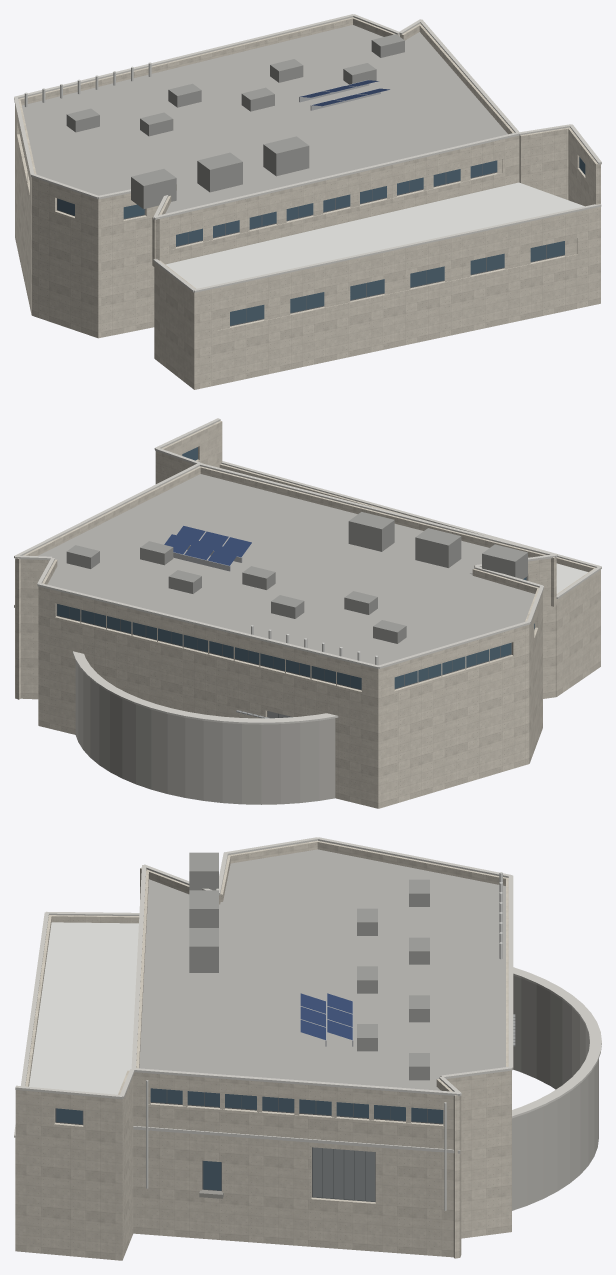
3 views of the same model, one above another, from view 1: azimuth 30°, elevation 25°; view 2: azimuth 150°, elevation 25°; view 3: azimuth 270°, elevation 25° (orthographic). The views are drawn at different scales.
Visible parts, largest first — view 1: s22__gray-concrete-wall, s22__roof, s22__white-roof, s22__ac, s22__trim, s22__glass, s22__frame, s22__solar-panel, s22__solar-frame; view 2: s22__gray-concrete-wall, s22__roof, s22__retaining-joint-wall, s22__trim, s22__ac, s22__glass, s22__solar-panel, s22__frame, s22__white-roof; view 3: s22__gray-concrete-wall, s22__roof, s22__white-roof, s22__retaining-joint-wall, s22__trim, s22__ac, s22__glass, s22__shutter-metal, s22__solar-panel, s22__frame, s22__column.
Part boxes in pixels (left/top/right/bottom): s22__gray-concrete-wall: left=15, top=17, right=600, bottom=389; s22__roof: left=22, top=25, right=507, bottom=213; s22__white-roof: left=165, top=182, right=584, bottom=288; s22__ac: left=66, top=34, right=404, bottom=208; s22__trim: left=14, top=14, right=601, bottom=292; s22__glass: left=57, top=157, right=585, bottom=325; s22__frame: left=21, top=140, right=564, bottom=326; s22__solar-panel: left=300, top=80, right=389, bottom=106; s22__solar-frame: left=299, top=80, right=380, bottom=110; s22__gray-concrete-wall: left=15, top=420, right=600, bottom=808; s22__roof: left=38, top=474, right=534, bottom=665; s22__retaining-joint-wall: left=75, top=661, right=335, bottom=804; s22__trim: left=14, top=418, right=601, bottom=724; s22__ac: left=66, top=512, right=527, bottom=643; s22__glass: left=57, top=447, right=534, bottom=689; s22__solar-panel: left=164, top=526, right=251, bottom=565; s22__frame: left=56, top=576, right=534, bottom=717; s22__white-roof: left=556, top=563, right=588, bottom=593; s22__gray-concrete-wall: left=15, top=840, right=511, bottom=1260; s22__roof: left=139, top=849, right=505, bottom=1090; s22__white-roof: left=29, top=922, right=138, bottom=1094; s22__retaining-joint-wall: left=512, top=975, right=598, bottom=1210; s22__trim: left=14, top=837, right=601, bottom=1153; s22__ac: left=189, top=852, right=429, bottom=1080; s22__glass: left=56, top=1088, right=443, bottom=1124; s22__shutter-metal: left=313, top=1147, right=374, bottom=1201; s22__solar-panel: left=300, top=993, right=352, bottom=1039; s22__frame: left=55, top=1090, right=442, bottom=1201; s22__column: left=146, top=872, right=502, bottom=1210.
Bounding box in the file's own units: 41.44 × 13.5 × 39.62.
16 materials, 1 textured.
